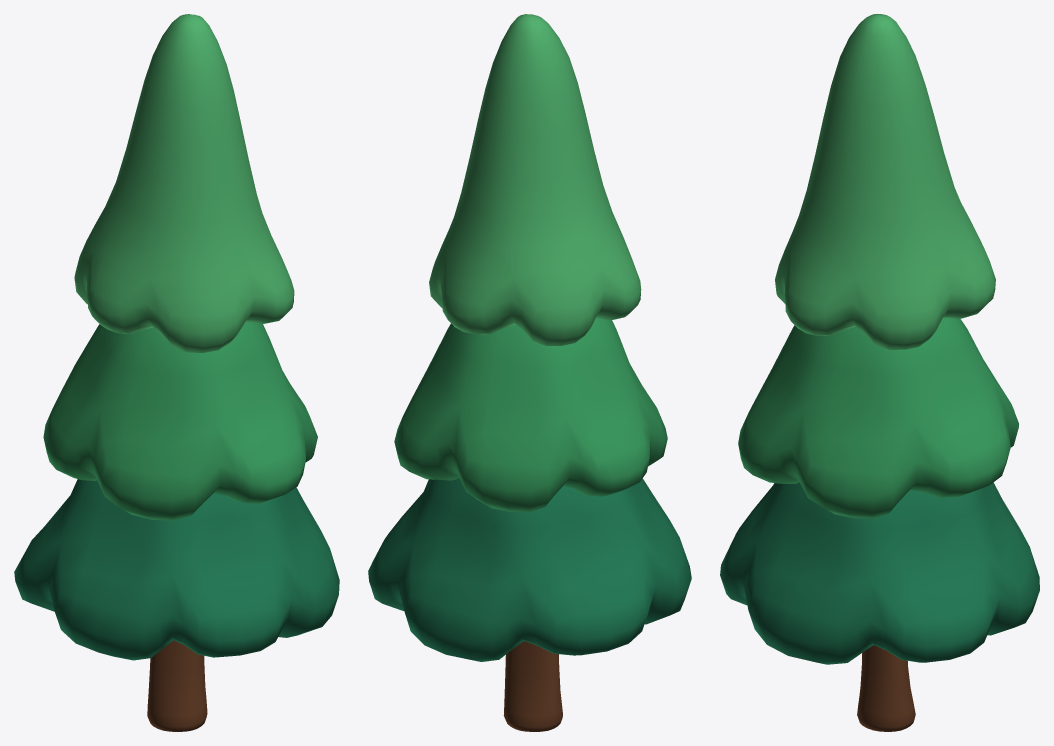
File: Conifer_01.glb
3 renders of one model, left to right at view 1: azimuth 30°, elevation 25°; view 2: azimuth 150°, elevation 25°; view 3: azimuth 270°, elevation 25°, orthographic.
Parts seen in each view (by area): view 1: Conifer_01_LOD0; view 2: Conifer_01_LOD0; view 3: Conifer_01_LOD0.
Boxes of the visible parts, <box> form: Conifer_01_LOD0: <box>14,14,339,731</box>; Conifer_01_LOD0: <box>368,14,691,731</box>; Conifer_01_LOD0: <box>720,14,1039,731</box>.
Size of the model in its own units: 5.48 by 13.41 by 5.46.
Materials: 1 (1 with a texture image).
